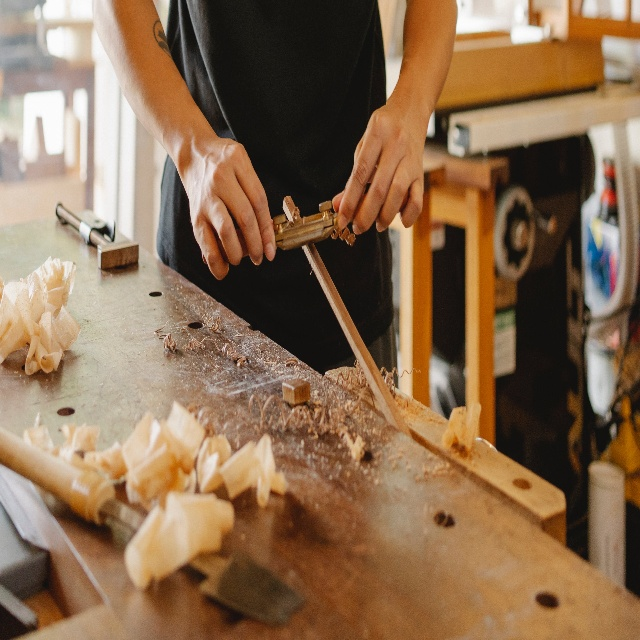Sin_guantes: (185, 135, 276, 281), (331, 101, 429, 235)
